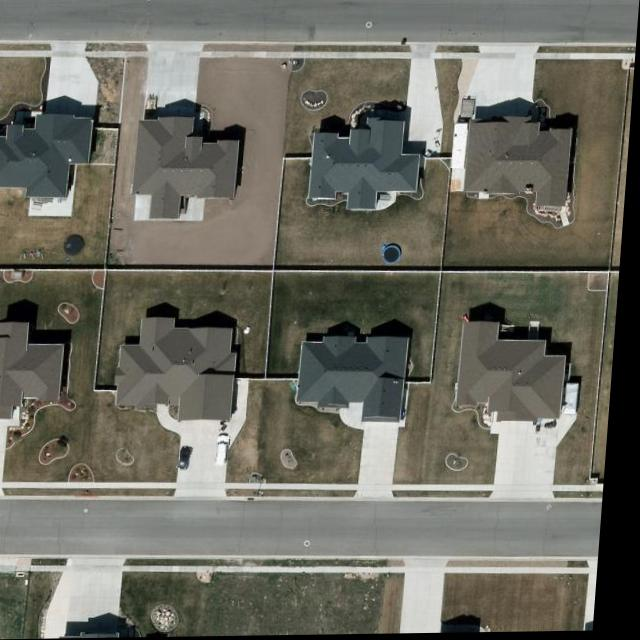vehicle: (222, 436, 236, 468), (185, 447, 200, 472)
